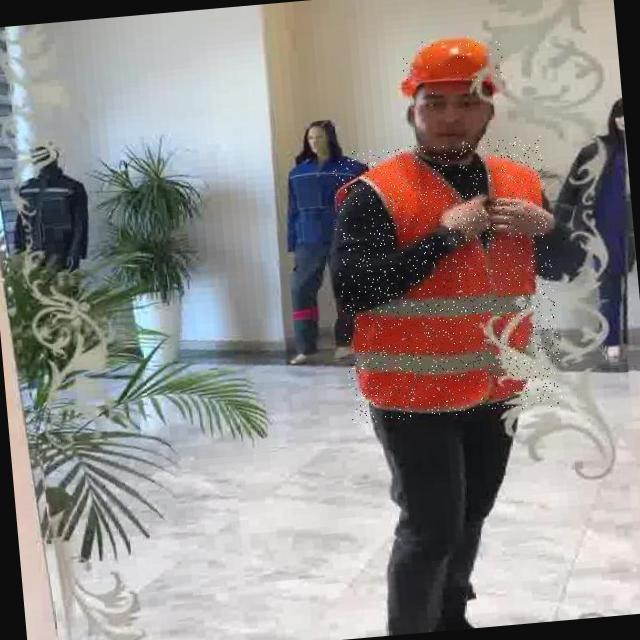helmet: (395, 32, 504, 97)
no-gloves: (481, 183, 568, 245), (432, 190, 496, 260)
vest: (328, 134, 564, 423)
